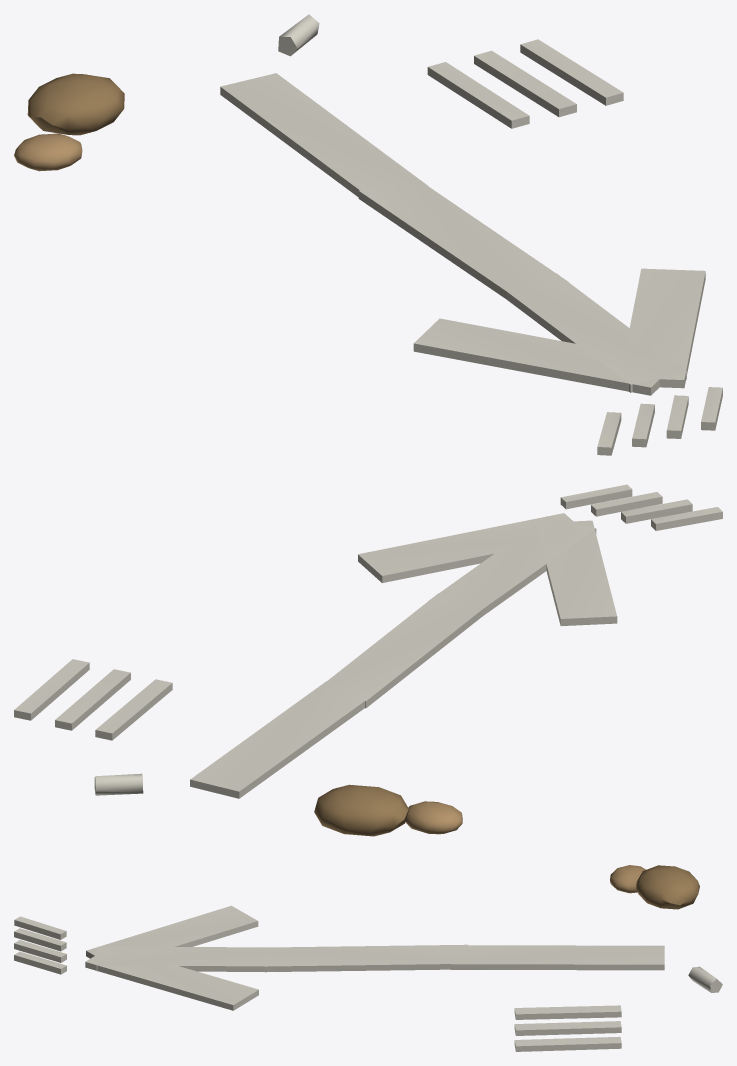
File: chalk_turn_a_lod2.glb
The picture shows the model from 3 angles, top to bottom: view 1: azimuth 30°, elevation 25°; view 2: azimuth 150°, elevation 25°; view 3: azimuth 270°, elevation 25°; orthographic projection. The views are drawn at different scales.
Parts seen in each view (by area): view 1: Surface.001; view 2: Surface.001; view 3: Surface.001.
Part boxes in pixels (<box>): Surface.001: <box>14,14,722,455</box>; Surface.001: <box>14,484,722,836</box>; Surface.001: <box>14,865,722,1051</box>.
Bounding box in the file's own units: 3.37 × 0.3164 × 5.68.
